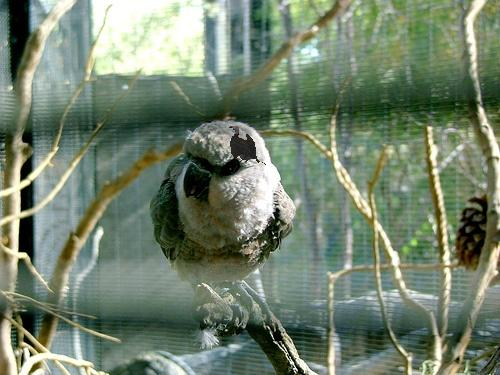tampered: (230, 127, 284, 165)
